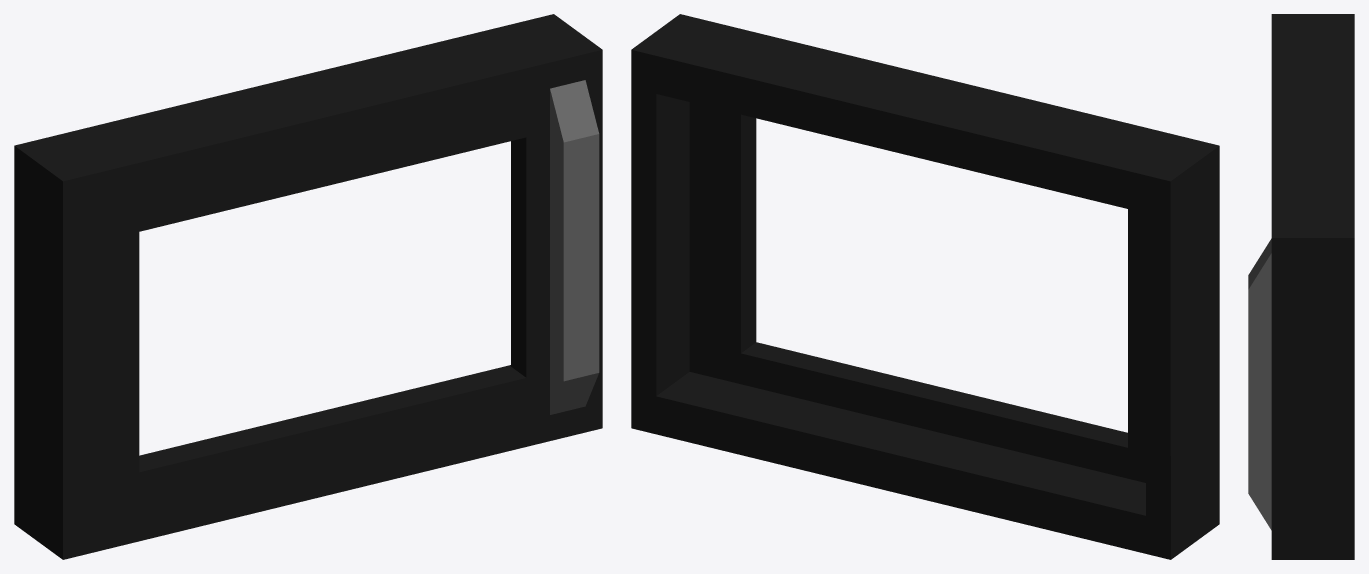
File: Itr_Obj_Microwave_Door_02.FBX
3 renders of one model, left to right at view 1: azimuth 30°, elevation 25°; view 2: azimuth 150°, elevation 25°; view 3: azimuth 270°, elevation 25°, orthographic. The views are drawn at different scales.
Visible parts, largest first — view 1: Itr_Obj_Microwave_Door_02; view 2: Itr_Obj_Microwave_Door_02; view 3: Itr_Obj_Microwave_Door_02.
Part boxes in pixels (box(x1,y1,x2,y2)): Itr_Obj_Microwave_Door_02: box(14, 14, 602, 559); Itr_Obj_Microwave_Door_02: box(631, 14, 1219, 559); Itr_Obj_Microwave_Door_02: box(1248, 14, 1354, 559).
Bounding box in the file's own units: 21.27 × 14.26 × 4.28.
